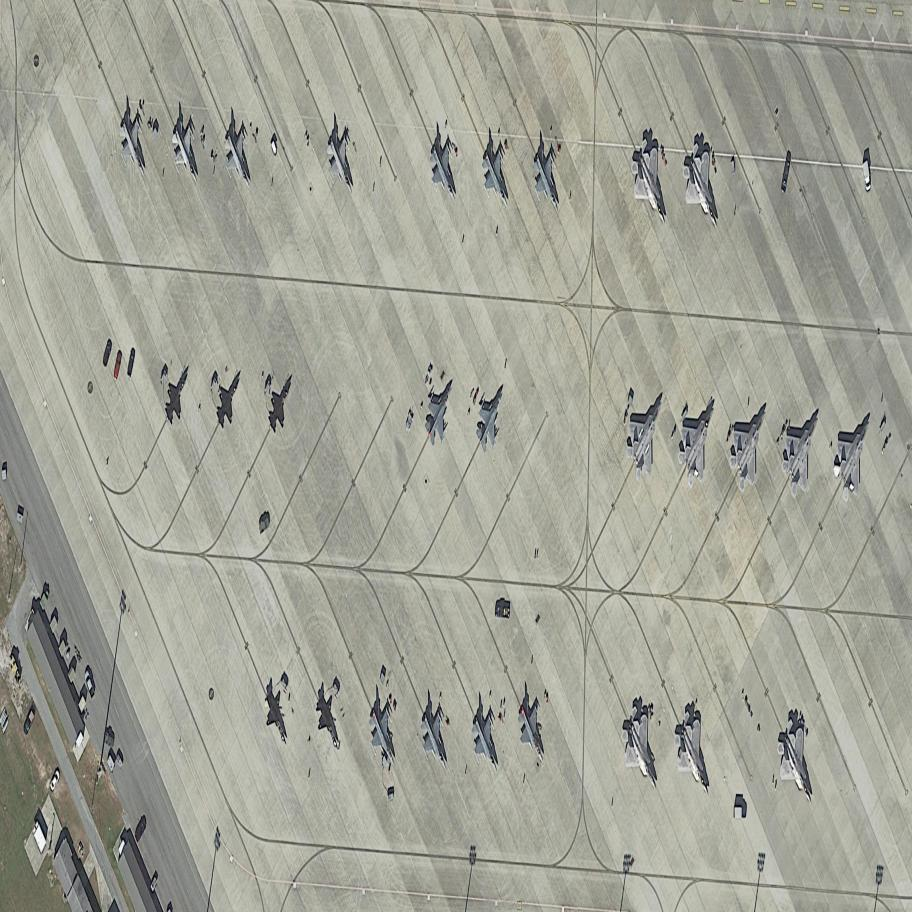large-vehicle: (861, 158, 872, 193)
plane: (607, 122, 695, 253), (654, 697, 735, 825), (604, 372, 686, 497), (759, 390, 843, 511), (709, 383, 790, 505), (601, 693, 681, 815), (757, 706, 835, 831), (662, 131, 743, 250), (813, 397, 893, 517), (659, 381, 737, 500), (464, 132, 529, 227), (413, 127, 478, 222), (516, 135, 579, 231), (207, 113, 270, 209), (354, 690, 414, 788), (103, 100, 165, 194), (156, 109, 217, 204), (312, 119, 372, 215), (455, 700, 516, 794), (405, 695, 465, 790), (503, 688, 561, 782), (461, 376, 522, 465), (410, 367, 470, 456), (304, 680, 355, 768), (255, 363, 307, 446), (203, 358, 256, 439), (251, 675, 302, 759), (151, 355, 204, 435)
small-vehicle: (20, 708, 39, 738), (133, 814, 151, 844), (780, 150, 792, 195), (83, 670, 97, 699), (255, 513, 274, 534), (102, 338, 114, 368), (47, 769, 62, 792), (113, 349, 123, 380), (127, 347, 136, 377), (496, 605, 510, 616)
